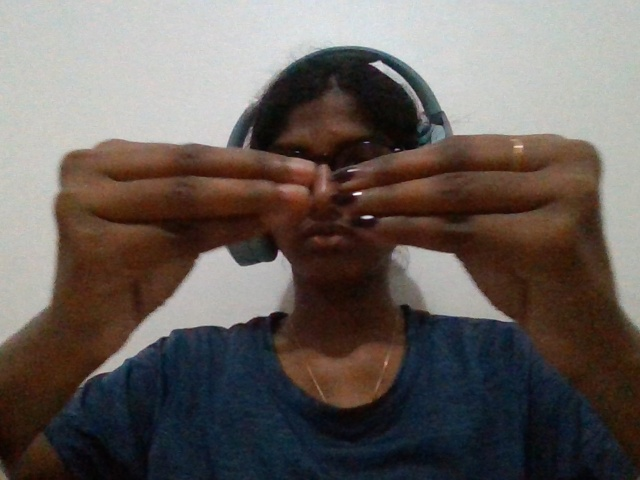More: (19, 113, 639, 431)
